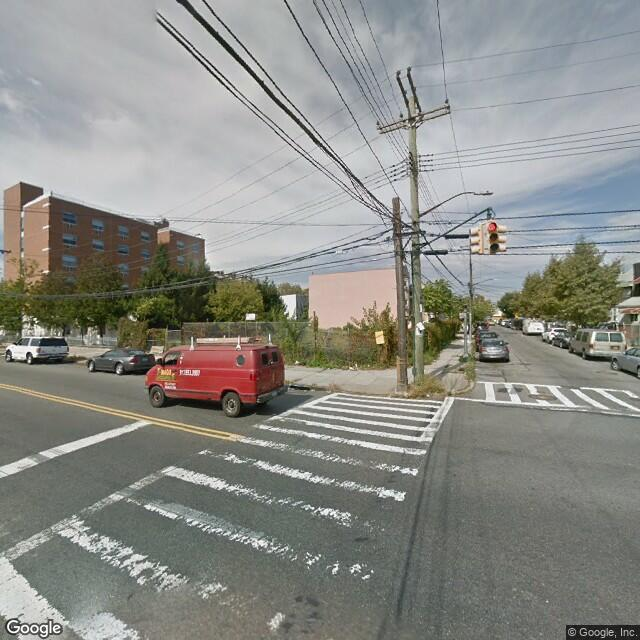litter: (293, 360, 303, 367), (347, 364, 355, 372), (365, 362, 372, 368)
